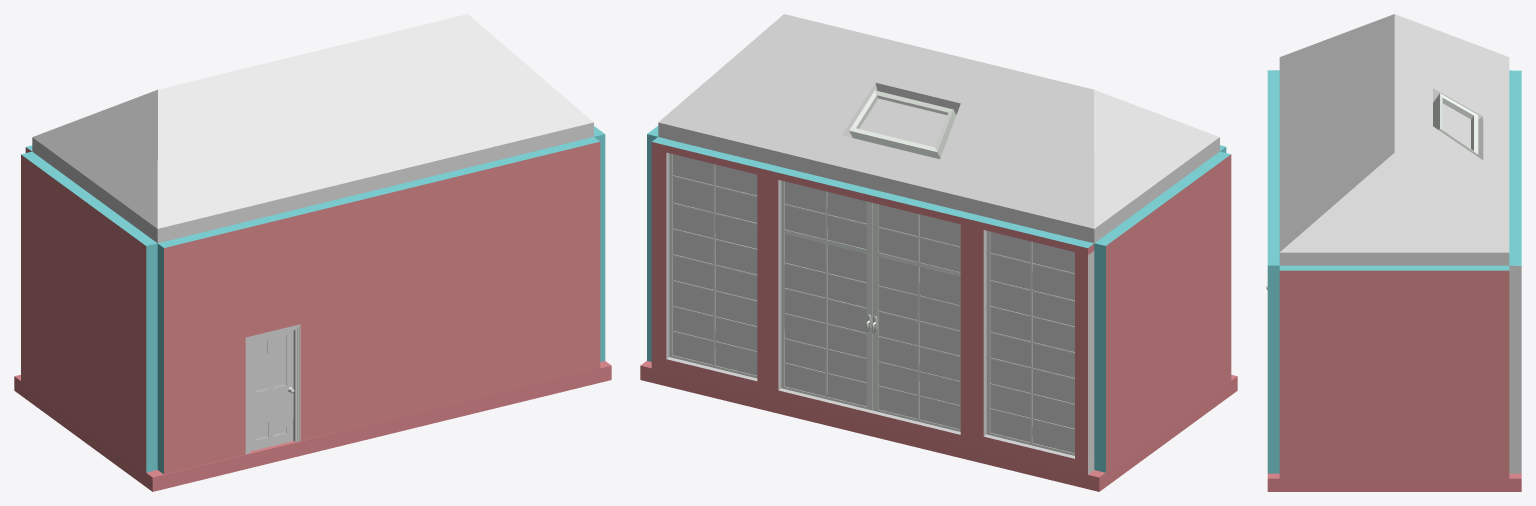
Rendered from mdl_Wintergarten.fbx.
3 renders of one model, left to right at view 1: azimuth 30°, elevation 25°; view 2: azimuth 150°, elevation 25°; view 3: azimuth 270°, elevation 25°, orthographic. The views are drawn at different scales.
Visible parts, largest first — view 1: Plane.001, Door_01.007; view 2: Plane.001, Window_Right_02.008, Window_Right_02.009, Window_Right_02.007, Window_Left_01.004; view 3: Plane.001.
Part boxes in pixels (x1=…): Plane.001: x1=14, y1=14, x2=611, y2=491; Door_01.007: x1=250, y1=330, x2=294, y2=451; Plane.001: x1=640, y1=14, x2=1237, y2=491; Window_Right_02.008: x1=781, y1=180, x2=872, y2=410; Window_Right_02.009: x1=872, y1=203, x2=960, y2=431; Window_Right_02.007: x1=986, y1=231, x2=1074, y2=455; Window_Left_01.004: x1=669, y1=153, x2=757, y2=378; Plane.001: x1=1267, y1=14, x2=1521, y2=491.
Bounding box in the file's own units: 635 × 441 × 333.
